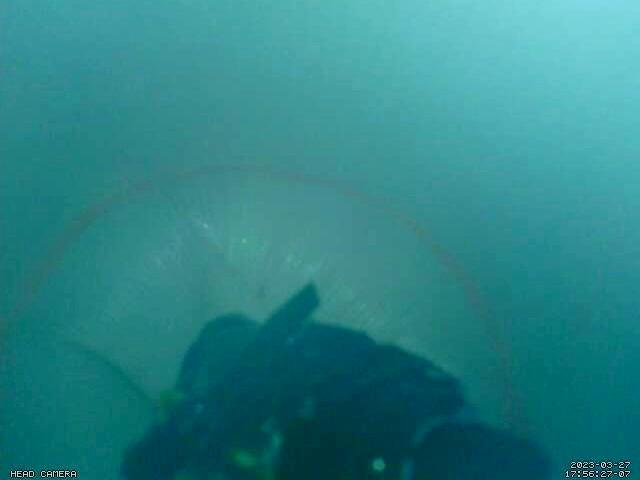head: (0, 162, 532, 440)
